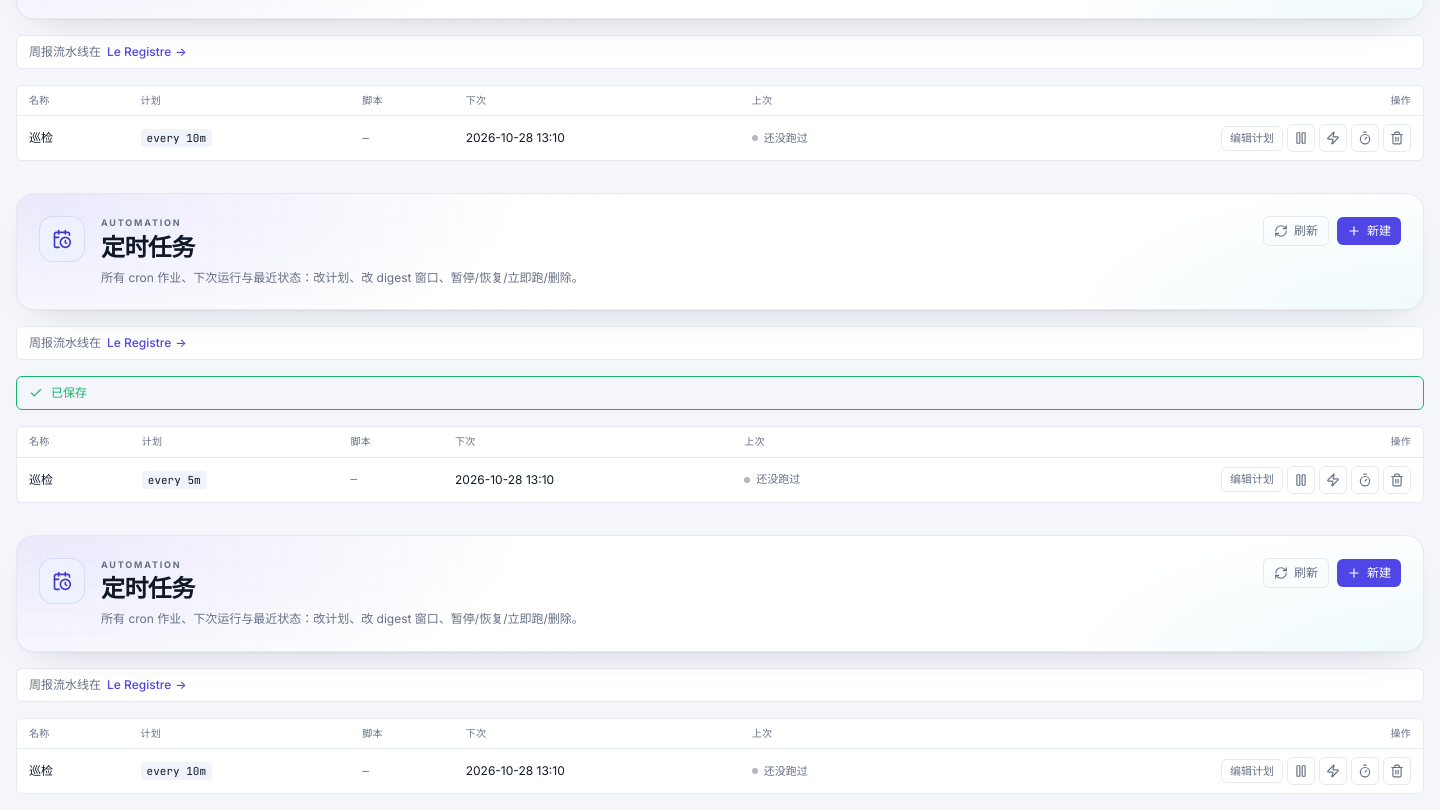
Test case: SchedulesPage › 暂停：调 POST pause，行状态变成「已暂停」
This screenshot has width=1440, height=810.
(page scrolled)
Step 1. Click the 3rd button named "暂停" → (1301, 771), box [1287, 757, 1315, 785]
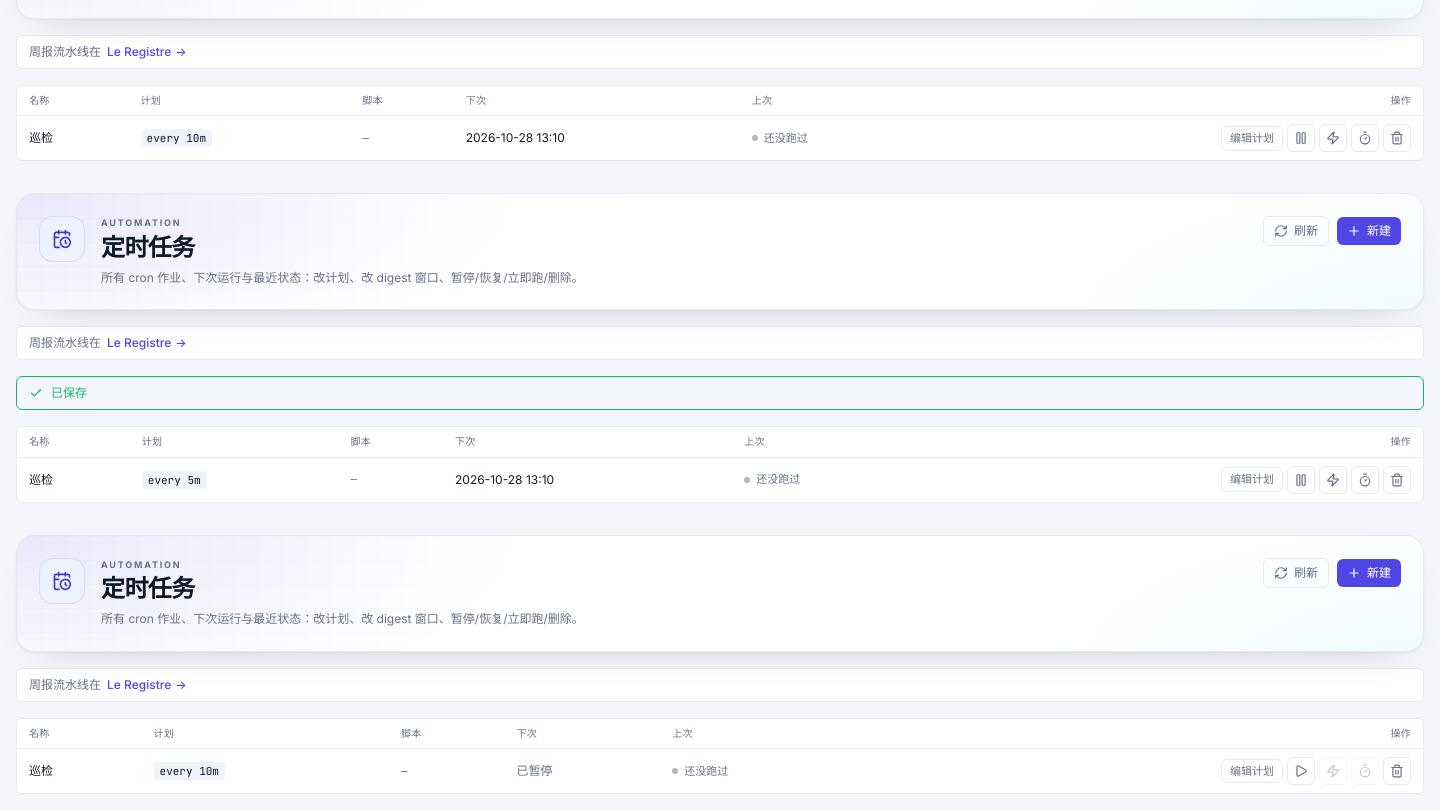
Check: the text "已暂停" is shown, box [516, 763, 552, 778]
